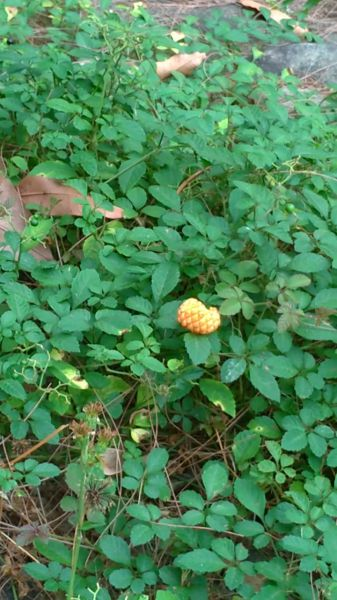eggs: (177, 291, 224, 340)
